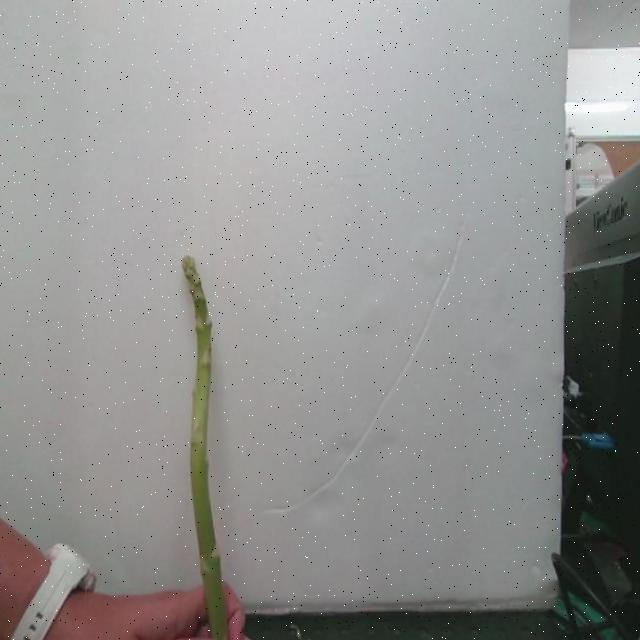aspargus: (182, 257, 231, 640)
